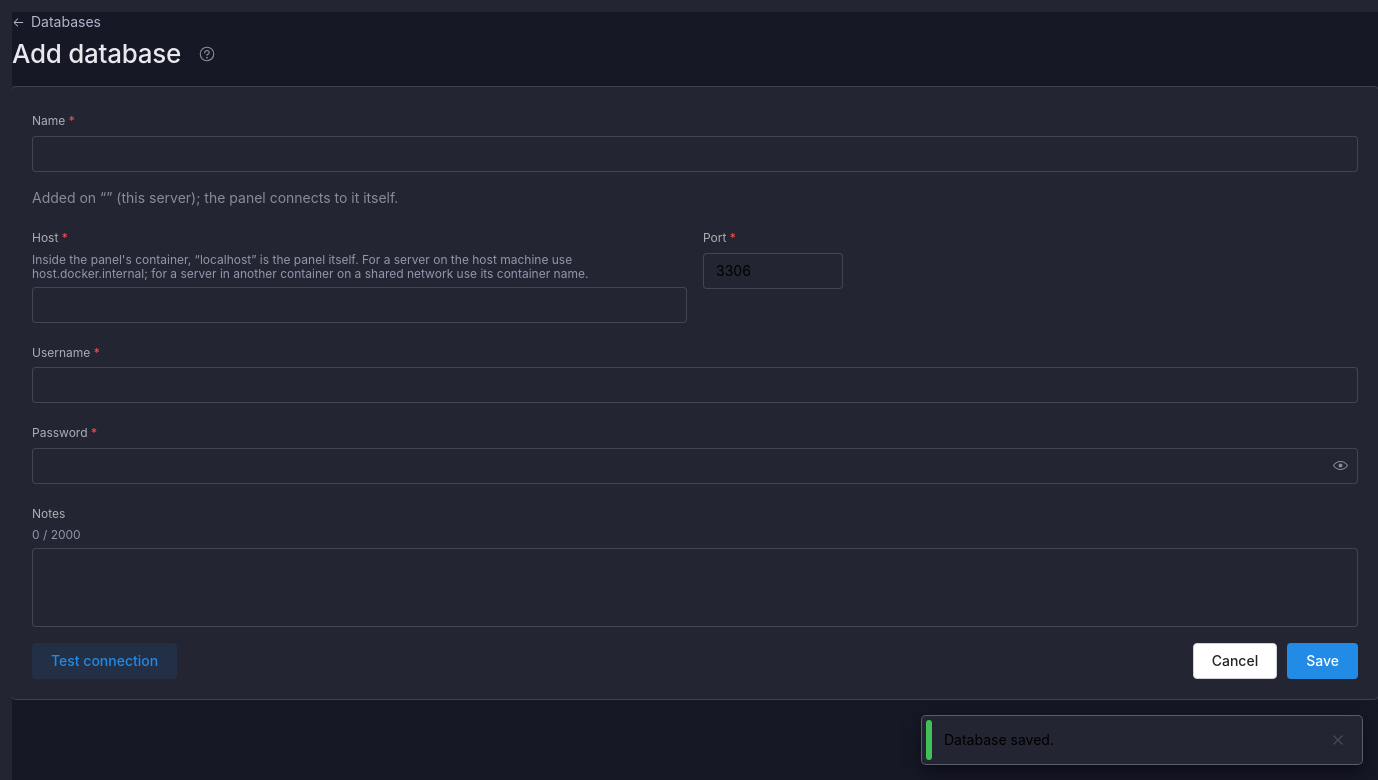
Test: InstanceFormPage › maps name_taken from the server to the name field
In the field labelled "Name *": coordinates (695, 154) left=32, top=136, right=1358, bottom=172, type "prod"
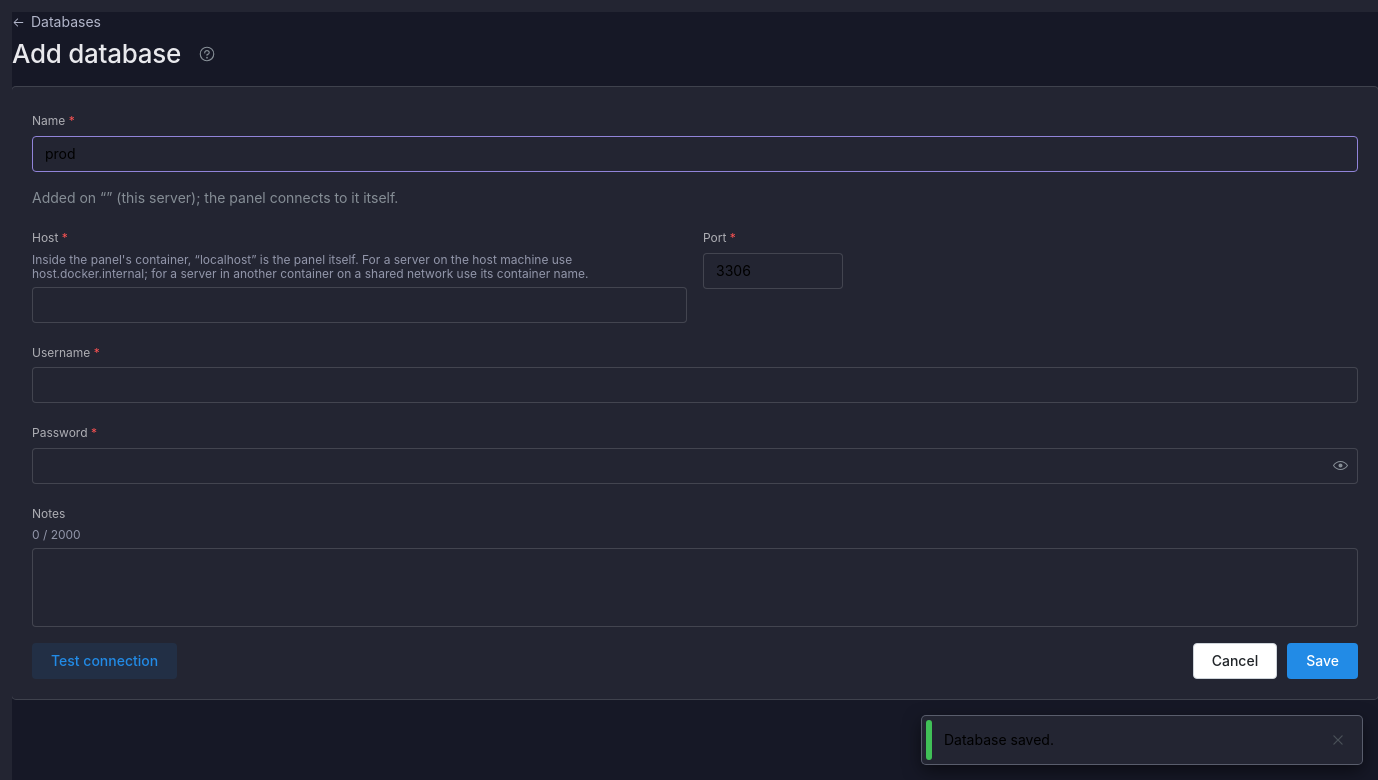
In the field labelled "Host *": coordinates (360, 305) left=32, top=287, right=687, bottom=323, type "db.internal"
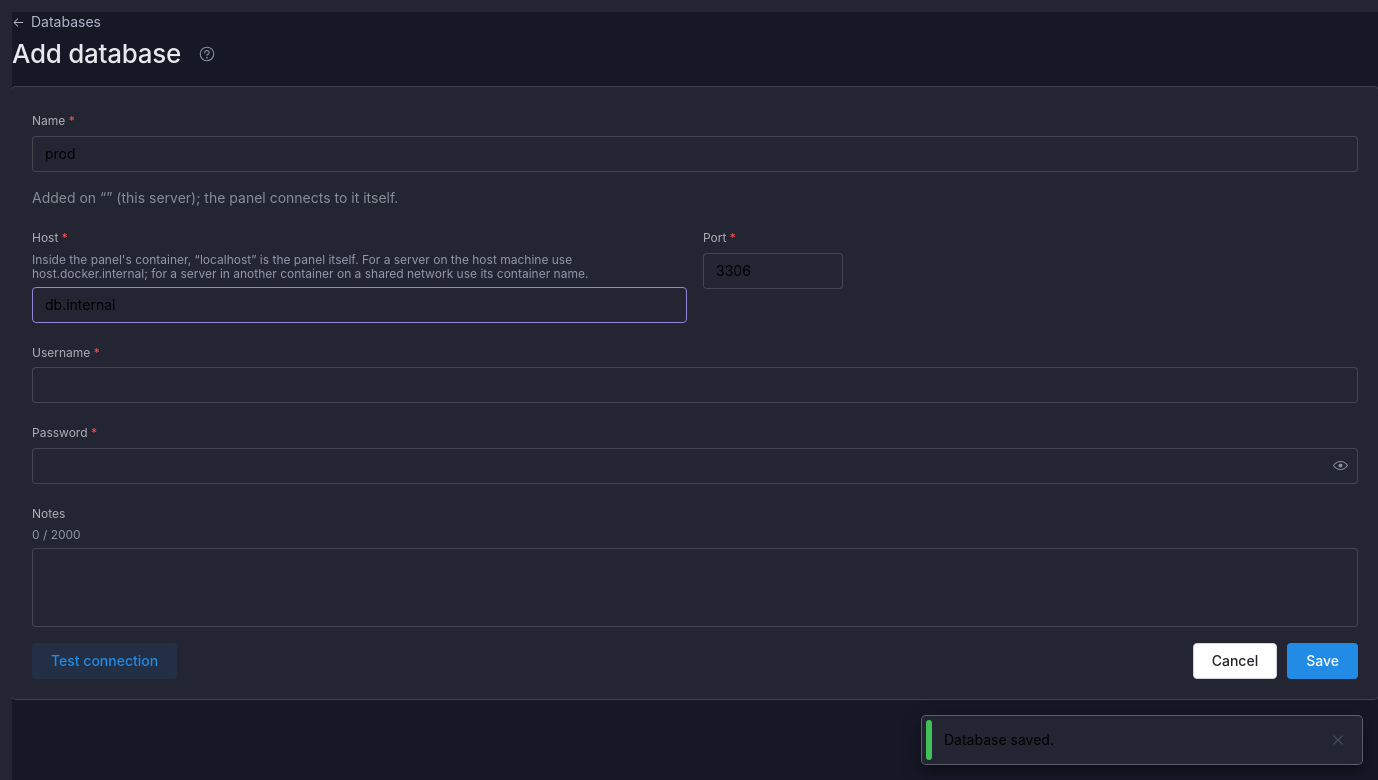
In the field labelled "Username *": coordinates (695, 385) left=32, top=367, right=1358, bottom=403, type "backup"
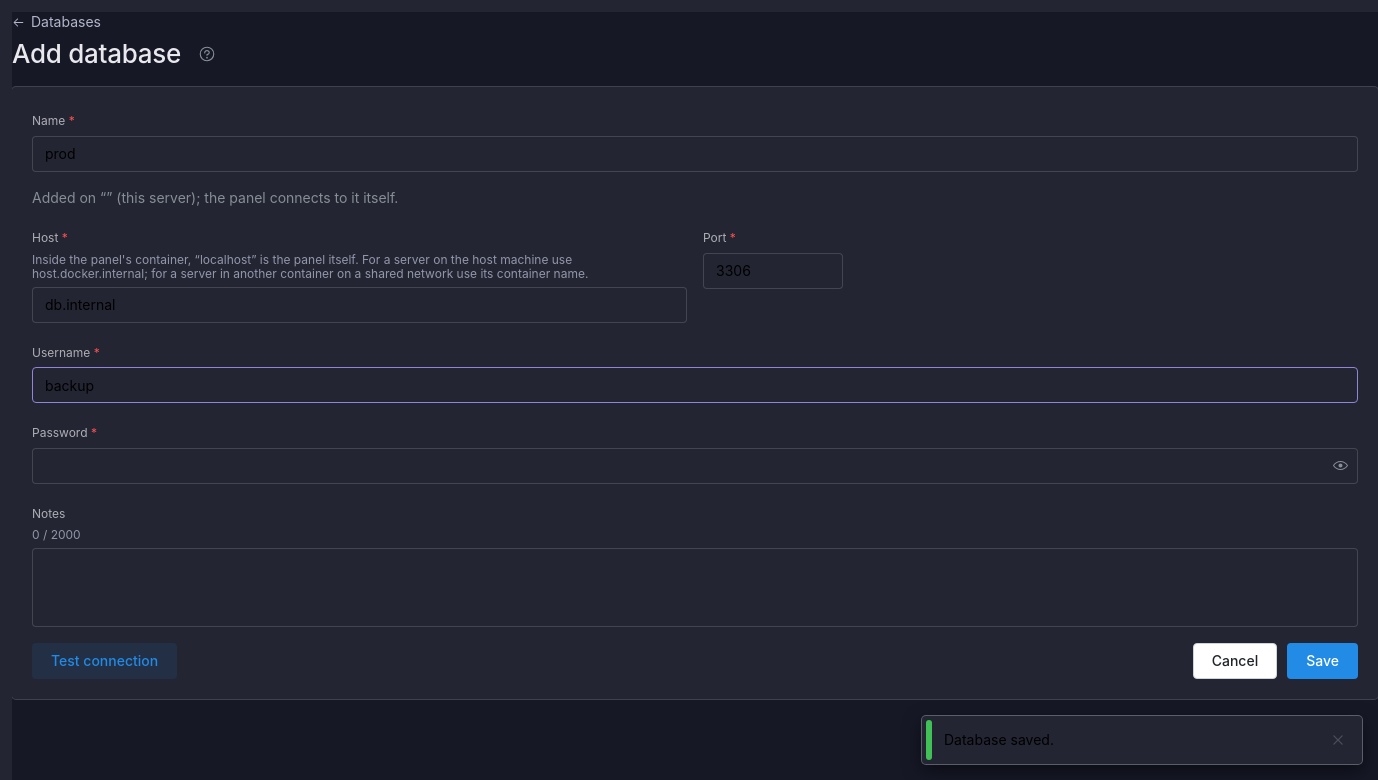
In the password field labelled "Password *": coordinates (695, 466) left=33, top=449, right=1357, bottom=483, type "secret"
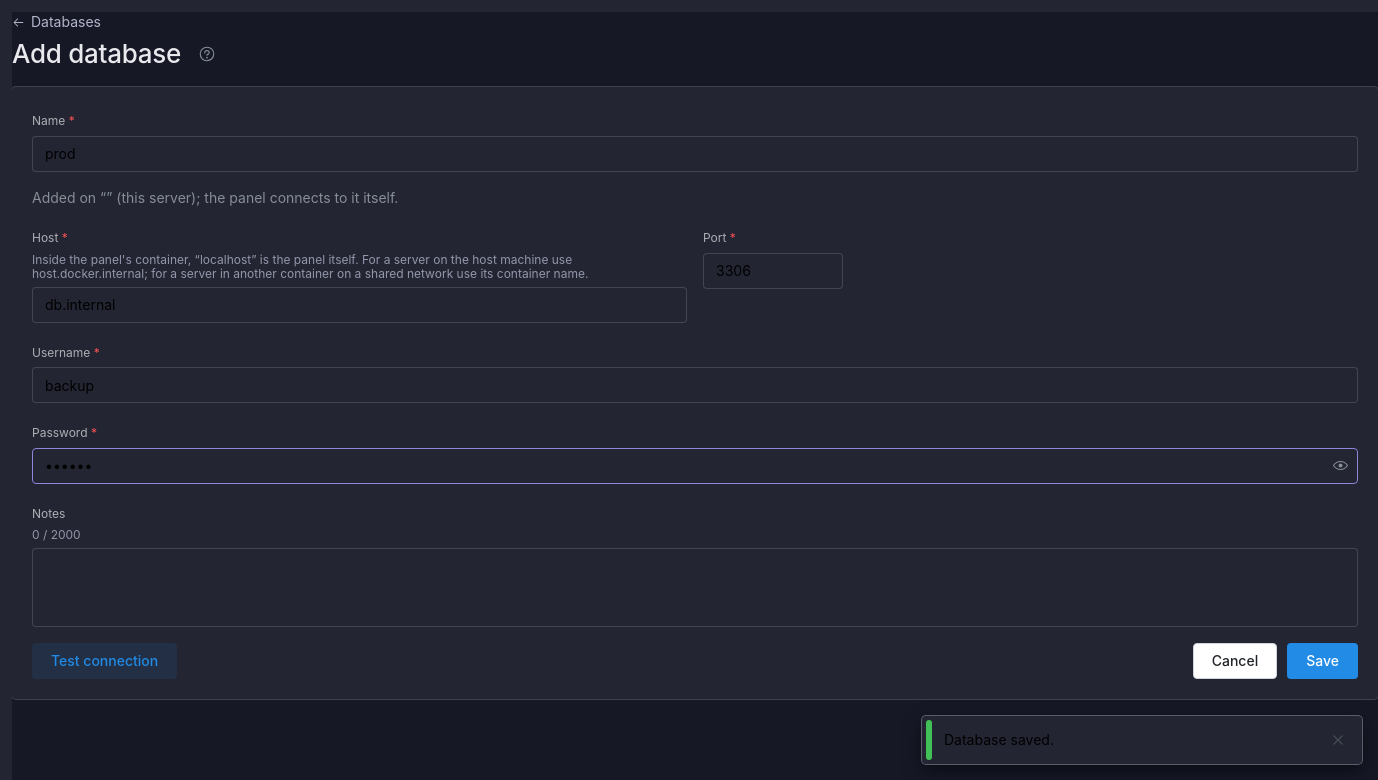
Click the button "Save": coordinates (1323, 661) left=1287, top=643, right=1358, bottom=679
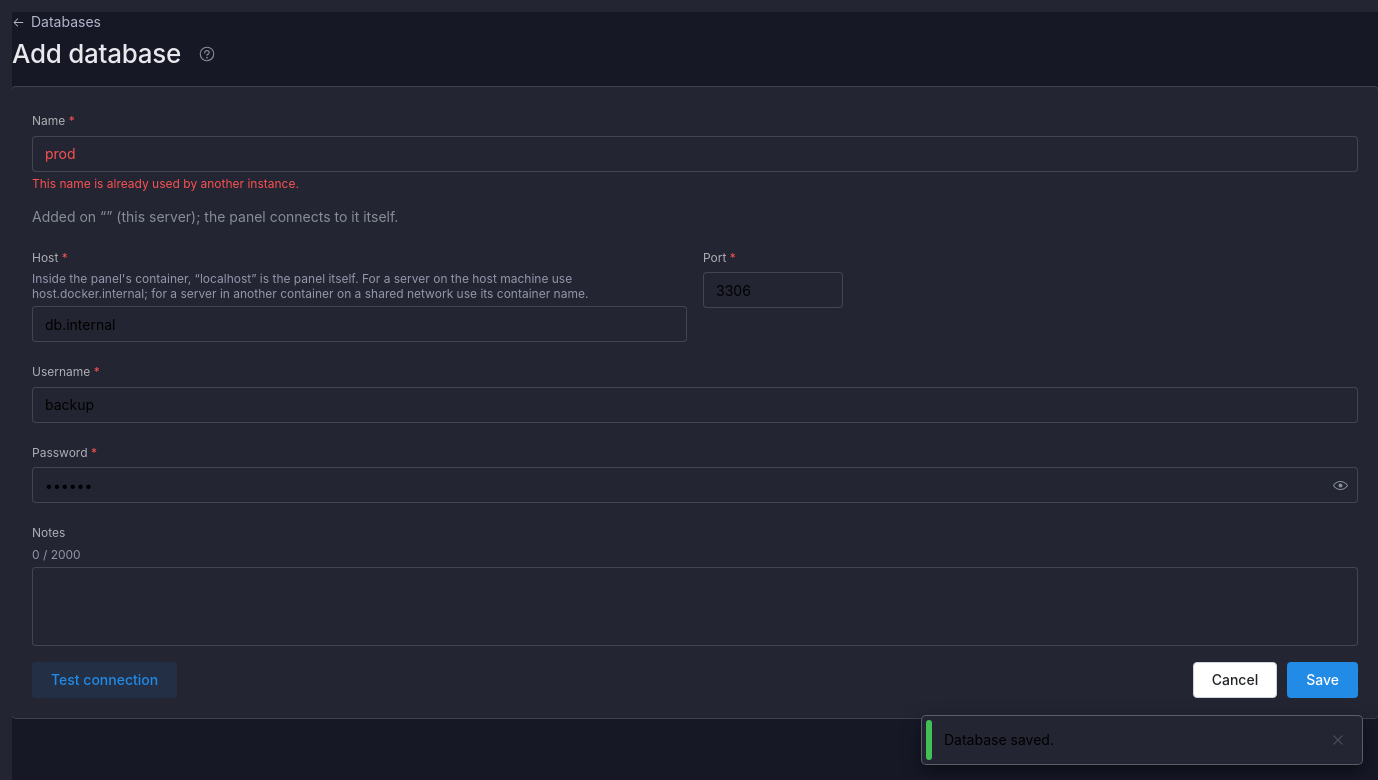
Check: the text "This name is already used by another instance." is shown, box left=32, top=176, right=299, bottom=191
